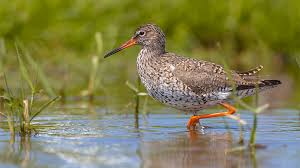Walking: (98, 20, 288, 141)
